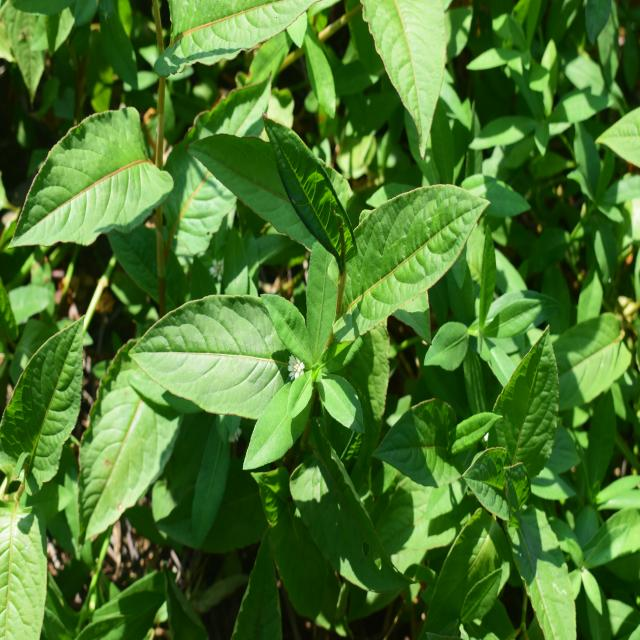Chinese_knotweed: (18, 90, 212, 518), (165, 86, 452, 348)
